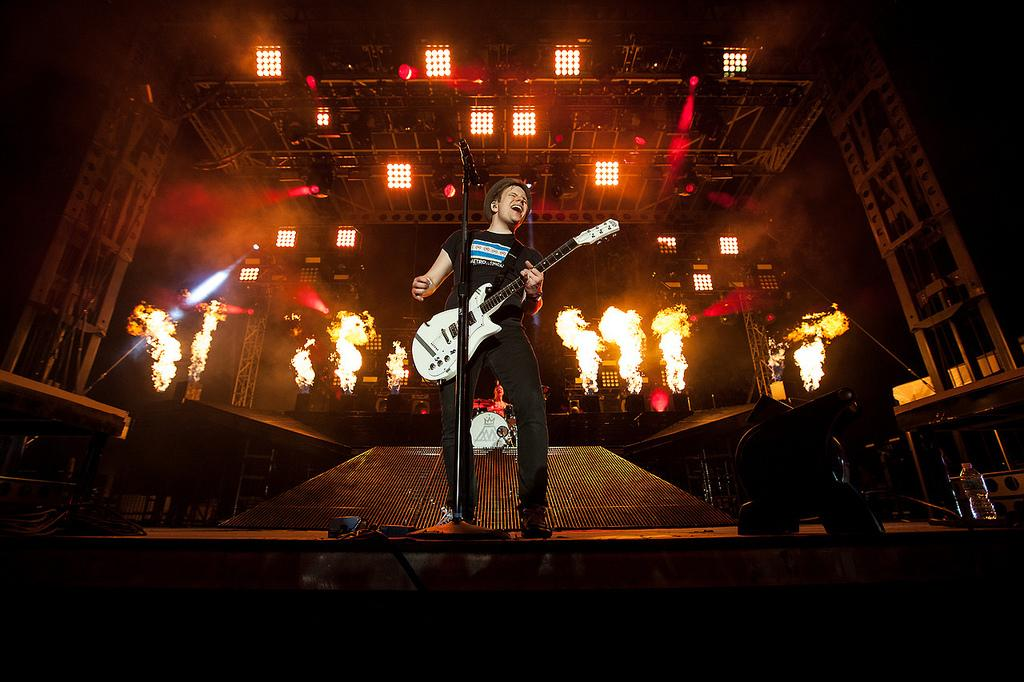fire: (560, 313, 702, 380), (300, 325, 412, 400), (140, 305, 232, 377), (778, 312, 842, 395)
